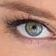eye: (25, 23, 43, 36)
